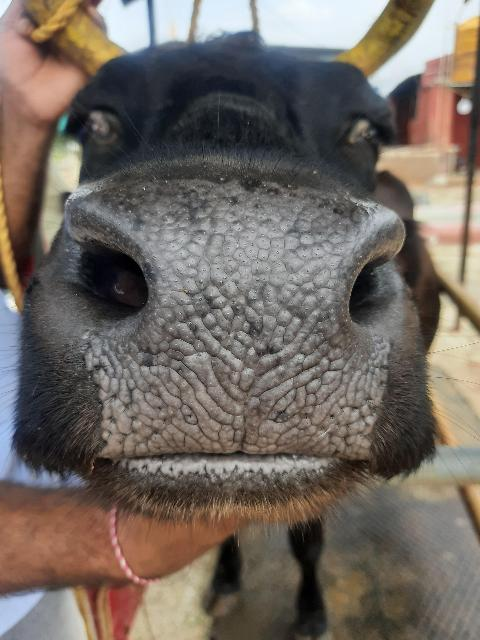Muzzle: (151, 196, 349, 454)
